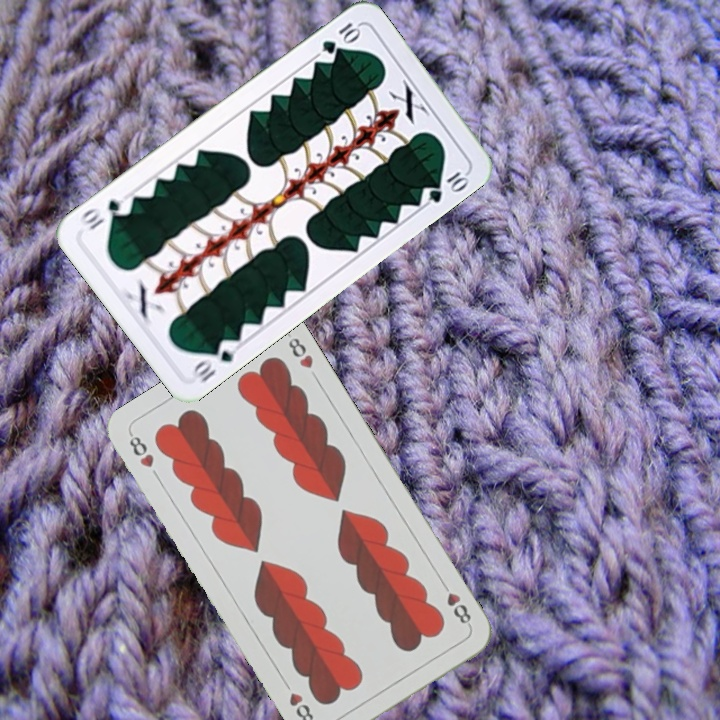G10: (186, 334, 242, 385), (317, 18, 363, 57)
H8: (436, 577, 474, 630), (125, 429, 157, 471)
